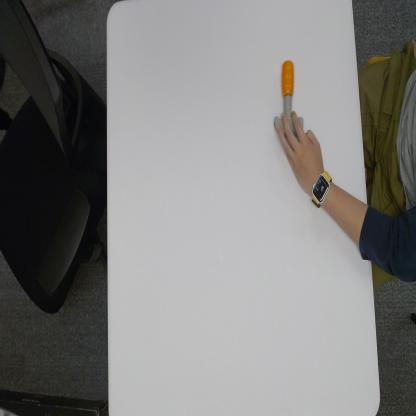Arm: (332, 182, 367, 258)
Hammer: (275, 60, 304, 134)
Hand: (276, 112, 319, 182)
